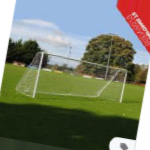goals: (12, 51, 129, 106)
